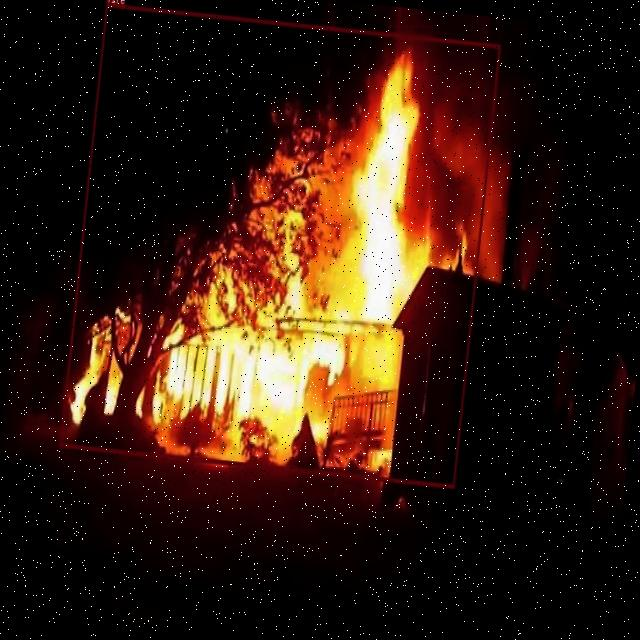fire: (58, 2, 500, 488)
